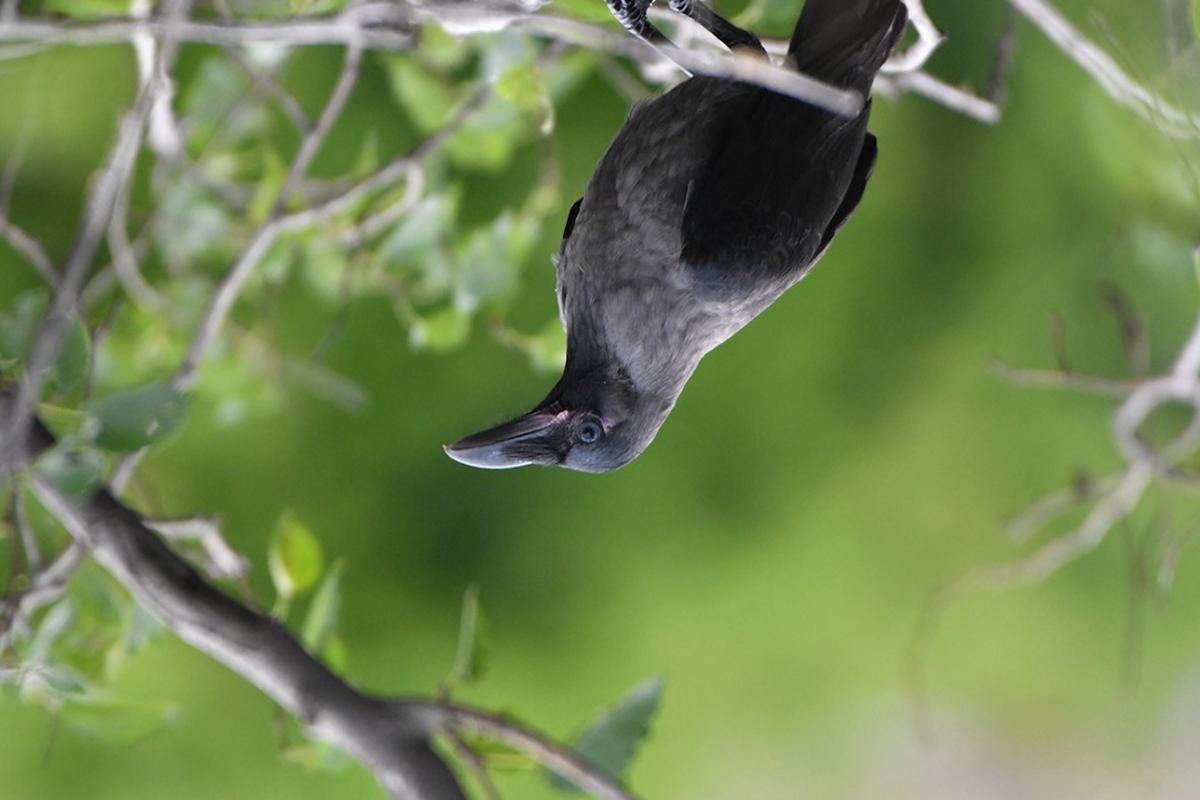crow: (441, 1, 916, 493)
